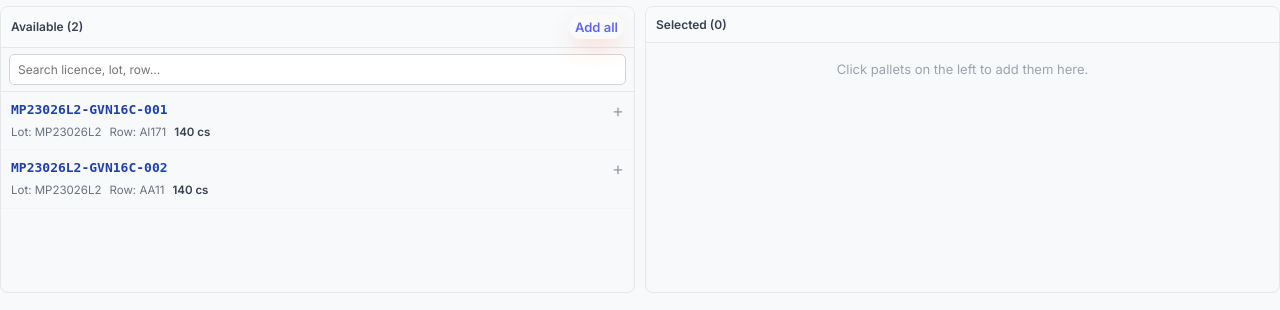
it: PalletPicker row labelling › searches by rack name, which is what the placeholder promises
Type "AI171" into the field with placeholder "Search licence, lot, row...". click: (318, 70)
box: [9,54,626,85]
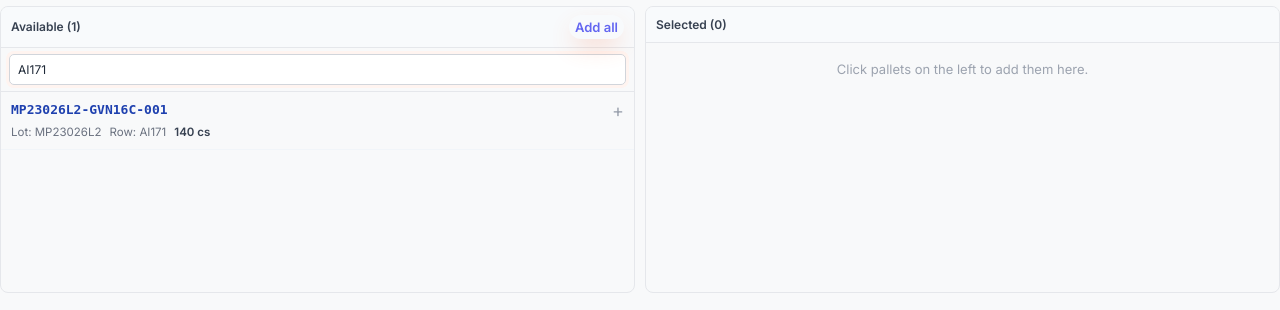
Expected: the text "MP23026L2-GVN16C-001" is shown, [11,102,168,117]
Result: the text "MP23026L2-GVN16C-002" is gone
